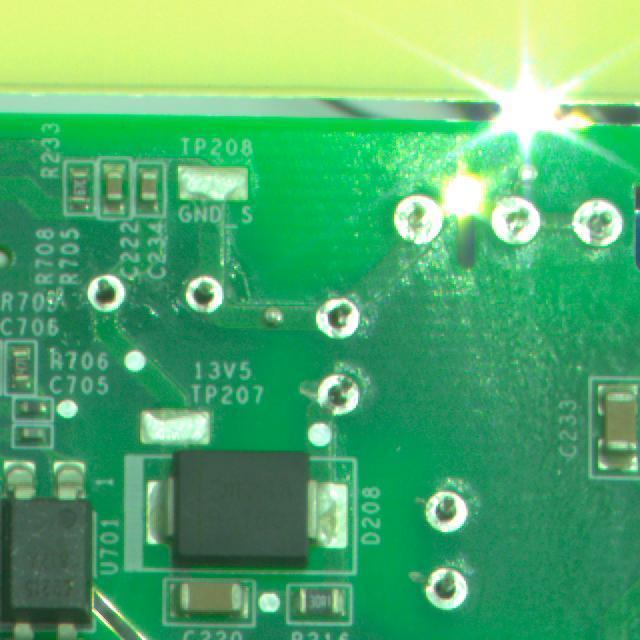Insufficient solder: (415, 558, 479, 628), (418, 480, 477, 534), (311, 293, 365, 348), (77, 270, 134, 321), (313, 371, 365, 411), (187, 269, 224, 324)
